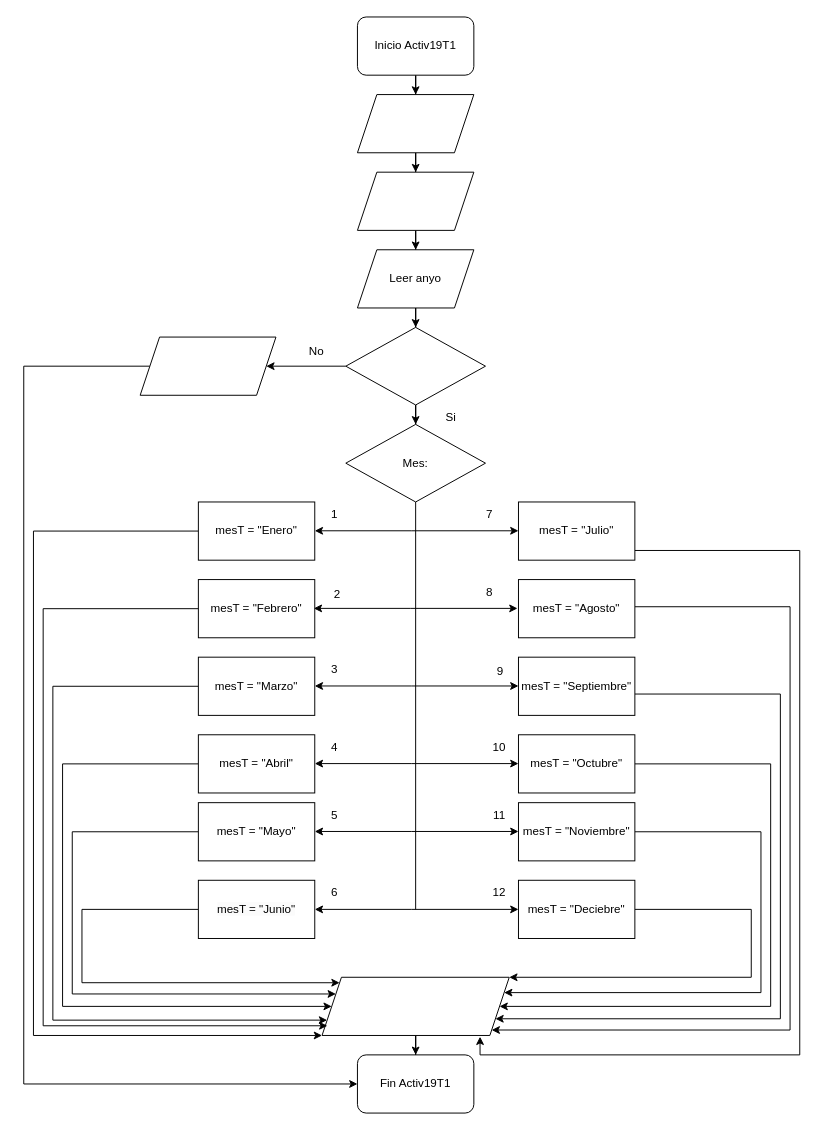
This 825x1130 diagram has some shape labels left out. Each missing label, with the centre of its shape:
Escribir "fecha no es valida": [207,365]
Escribir dia+"de"+"mesT+"del"+anyo: [415,1005]
La fecha es valida?: [415,365]
Leer dia: [415,123]
Leer mes: [415,200]
